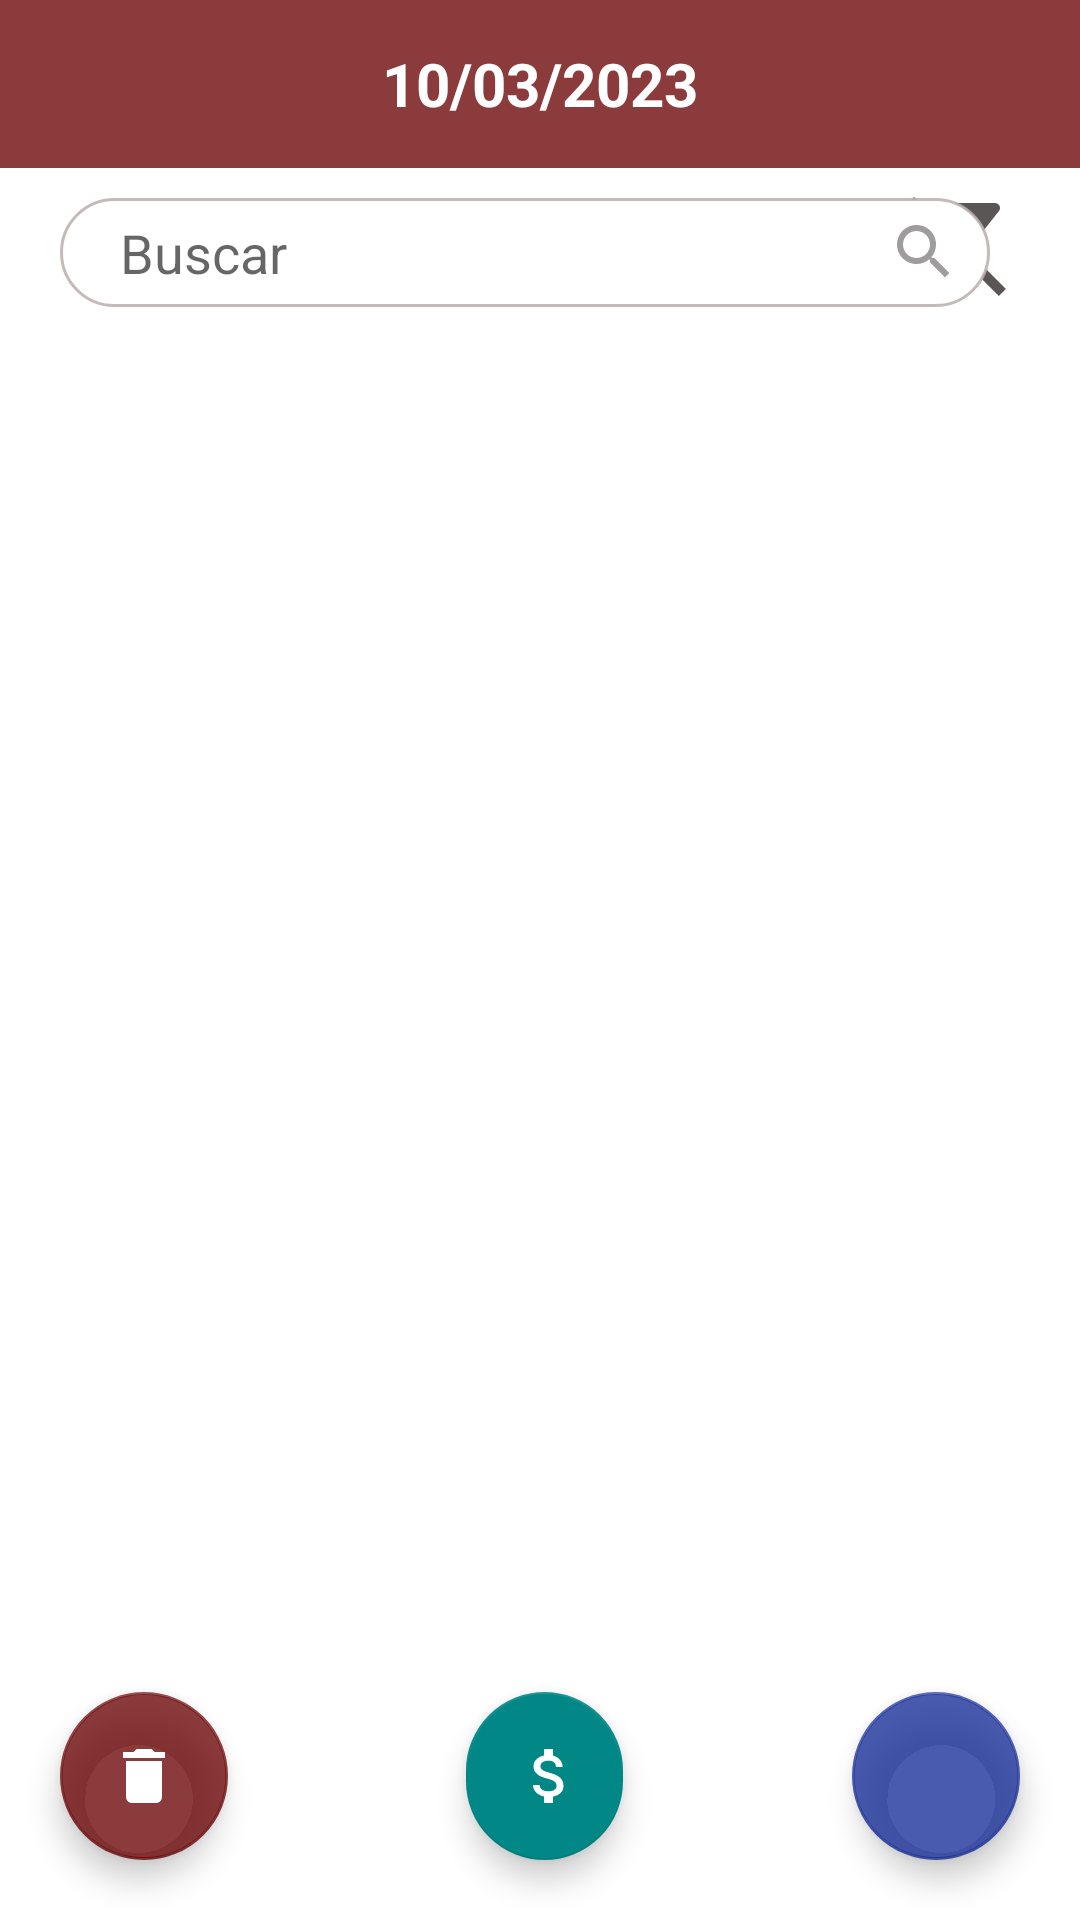

Icon bounding boxes for this 1080w x 1920h phone screenshot, format bbox(x1, y1, x2, y2):
contabilizar pedido: bbox(466, 1692, 623, 1860)
delete: bbox(60, 1692, 228, 1860)
